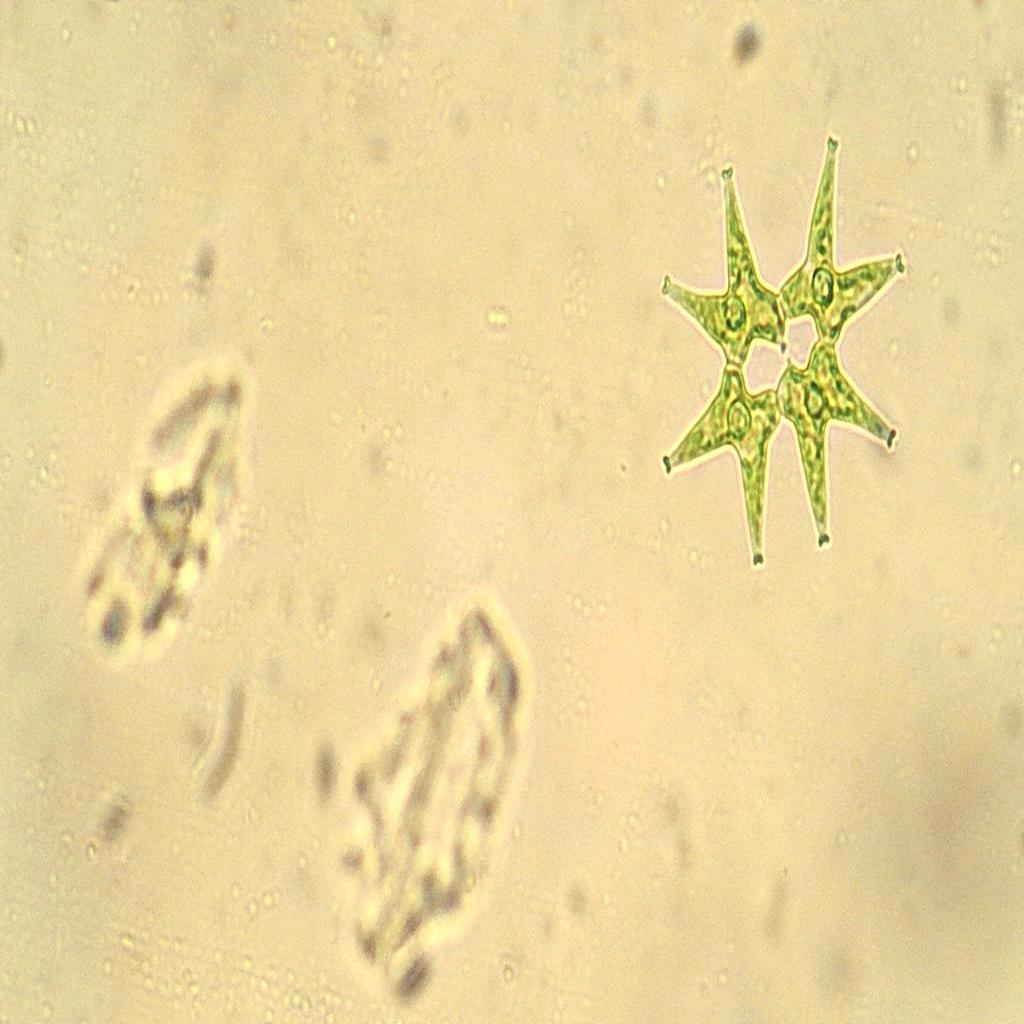Pediastrum_CF: (652, 122, 913, 585)
